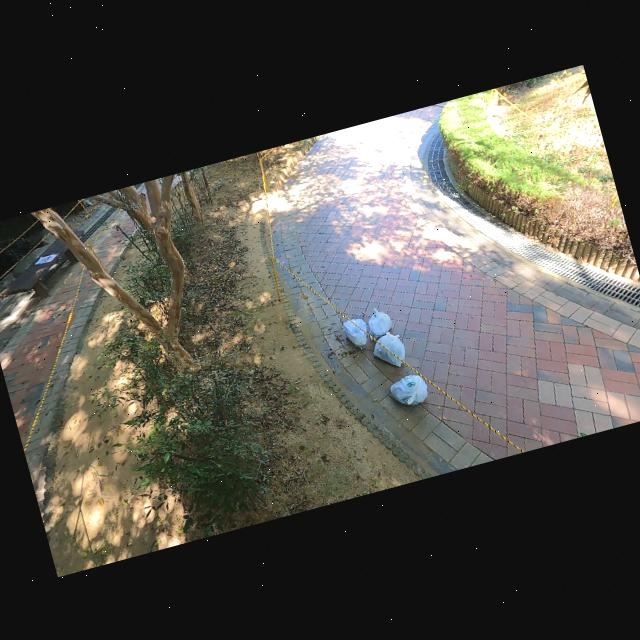trash: (368, 324, 412, 374), (385, 368, 433, 412), (364, 302, 396, 339), (340, 314, 370, 349)
